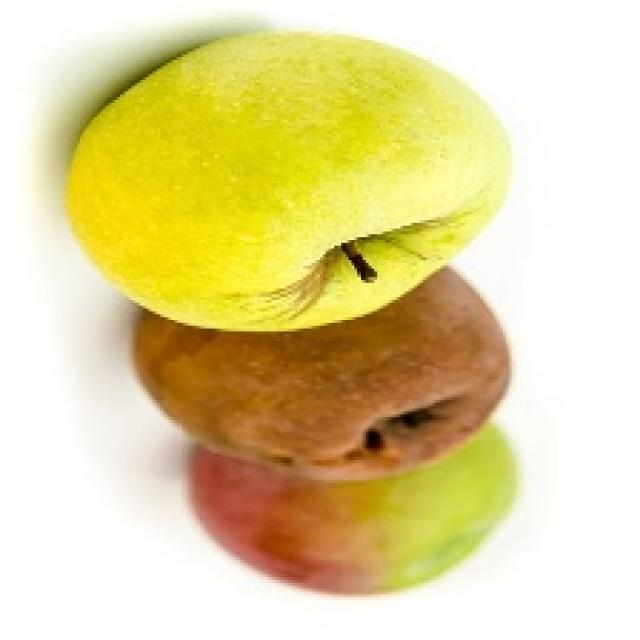100-_ripeness: (189, 460, 522, 594)
50-_ripeness: (68, 26, 518, 319)
rotten_apple: (127, 320, 510, 463)
